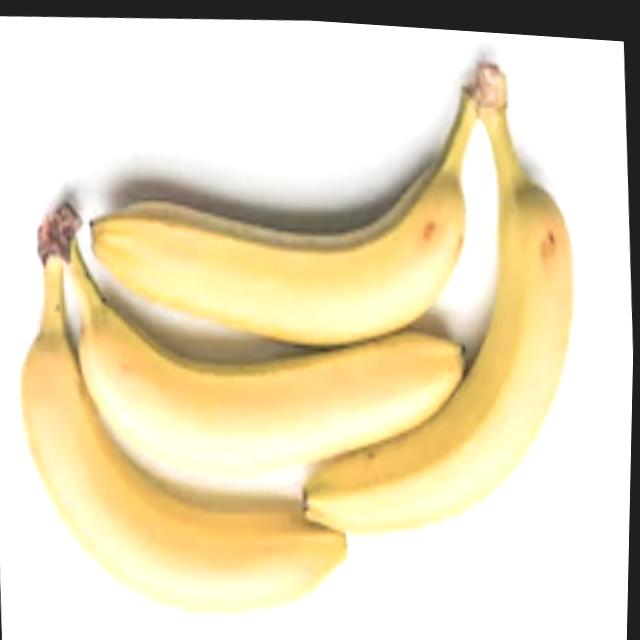Banana: (0, 26, 599, 640), (280, 42, 595, 549), (80, 45, 494, 365)
